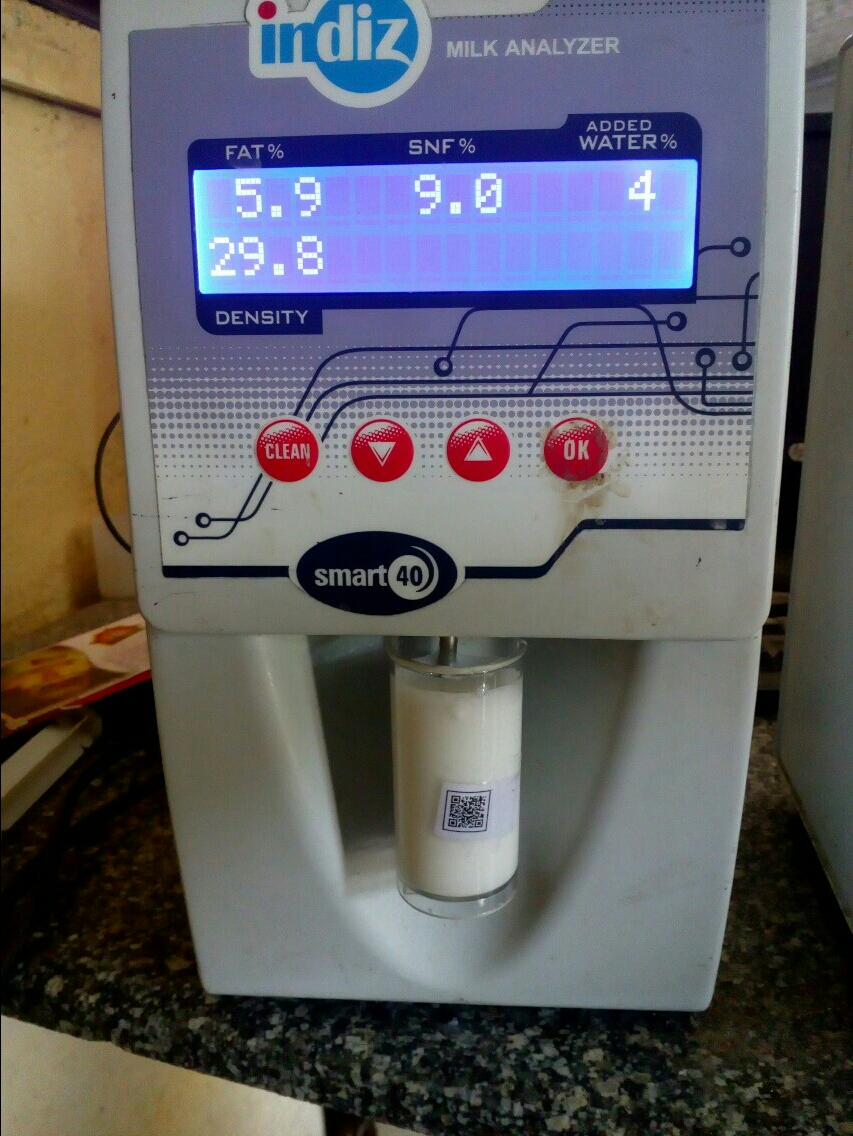lcd: (179, 157, 715, 306)
qr: (425, 787, 503, 840)
